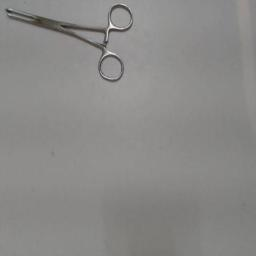Allis Tissue Forceps: (1, 2, 137, 86)
